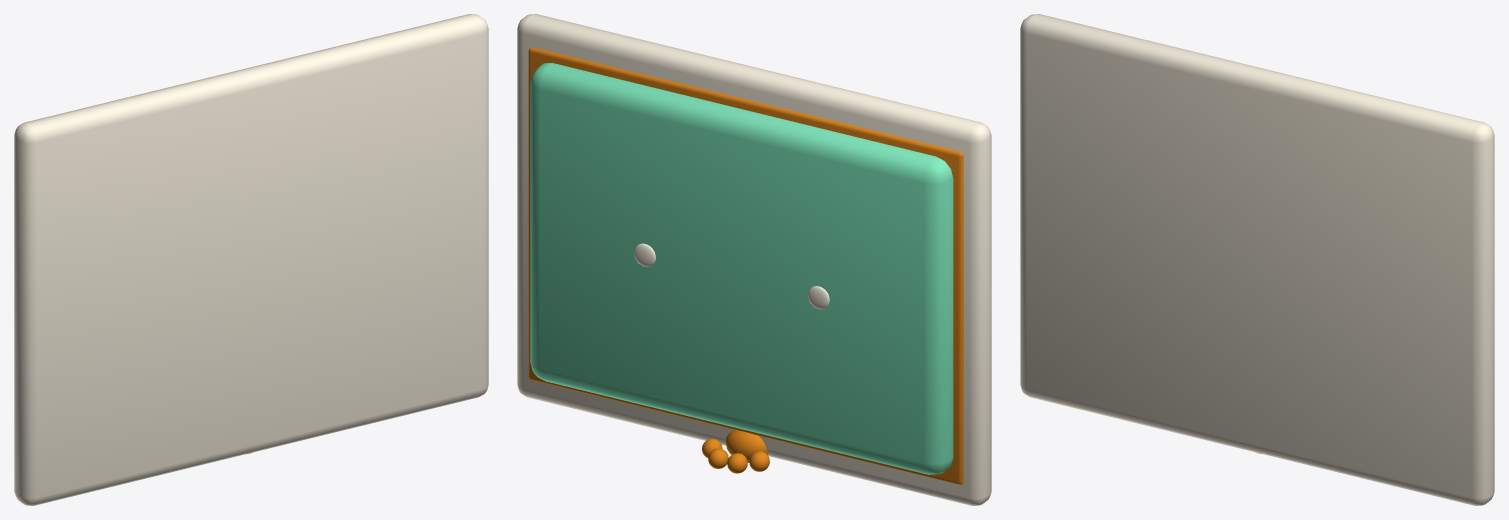
File: WalkingLeash_Premium.fbx
3 views of the same model, side by side, from view 1: azimuth 30°, elevation 25°; view 2: azimuth 150°, elevation 25°; view 3: azimuth 330°, elevation 25° (orthographic).
Parts seen in each view (by area): view 1: WalkingLeash_Body; view 2: WalkingLeash_Body; view 3: WalkingLeash_Body.
Part boxes in pixels (box(x1,y1,x2,y2)): WalkingLeash_Body: box(14, 14, 488, 505); WalkingLeash_Body: box(517, 14, 991, 505); WalkingLeash_Body: box(1020, 14, 1494, 505).
Bounding box in the file's own units: 0.7624 × 0.6014 × 0.1098.
